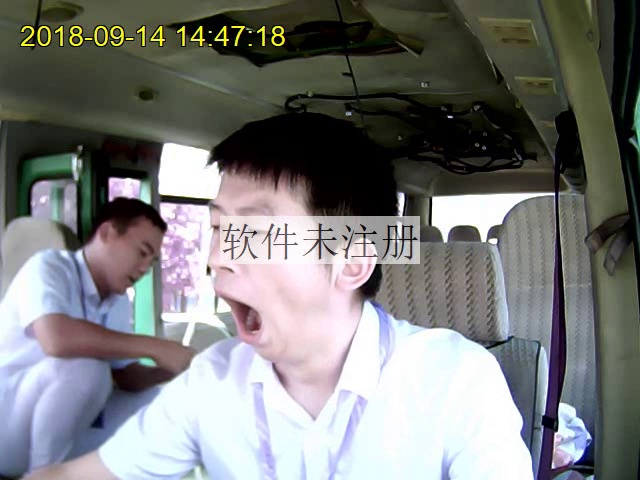open_mouth: (213, 288, 265, 346)
